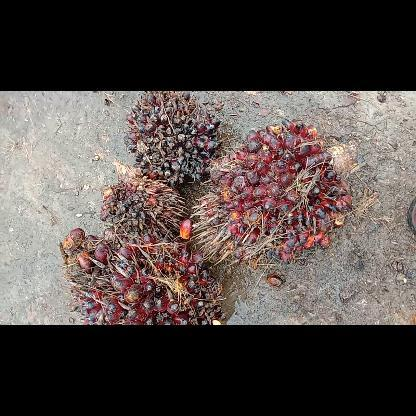Kurang masak: (58, 228, 226, 324)
TBS abnormal: (123, 90, 219, 186), (100, 160, 188, 238)
TBS masak: (190, 119, 358, 265)
